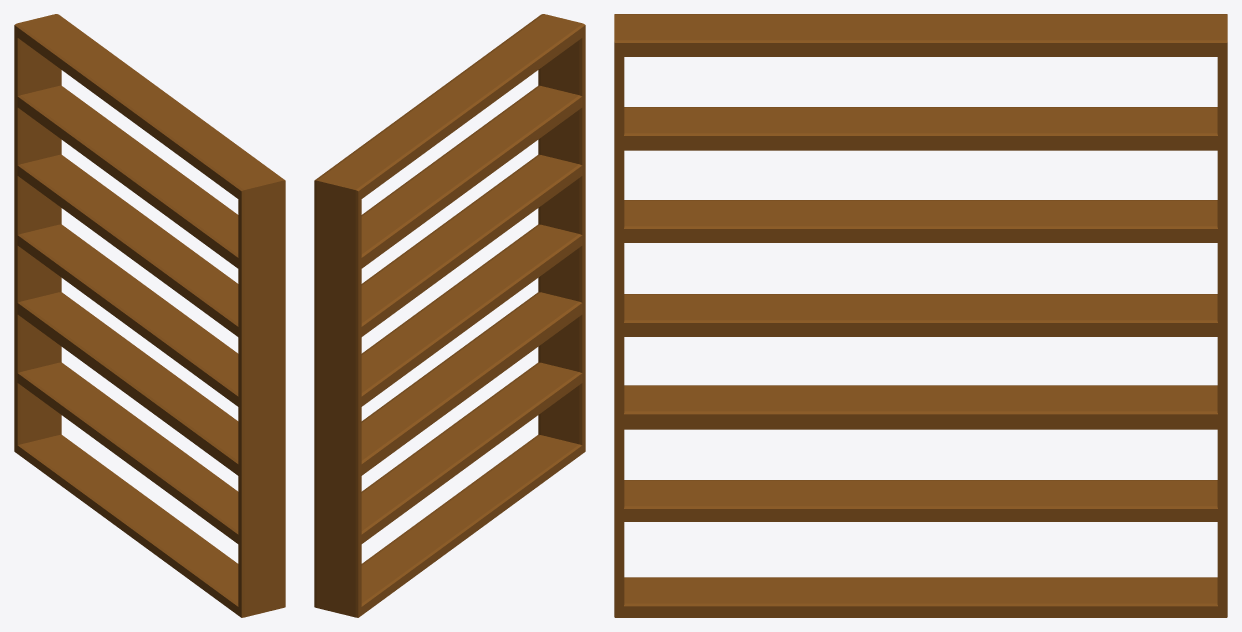
File: bookshelf.fbx
3 views of the same model, side by side, from view 1: azimuth 30°, elevation 25°; view 2: azimuth 150°, elevation 25°; view 3: azimuth 270°, elevation 25° (orthographic). The views are drawn at different scales.
Visible parts, largest first — view 1: Cube.001; view 2: Cube.001; view 3: Cube.001.
Part boxes in pixels (x1=…): Cube.001: x1=14, y1=14, x2=285, y2=617; Cube.001: x1=314, y1=14, x2=585, y2=617; Cube.001: x1=614, y1=14, x2=1227, y2=617.
Size of the model in its own units: 200 by 1853 by 1789.
